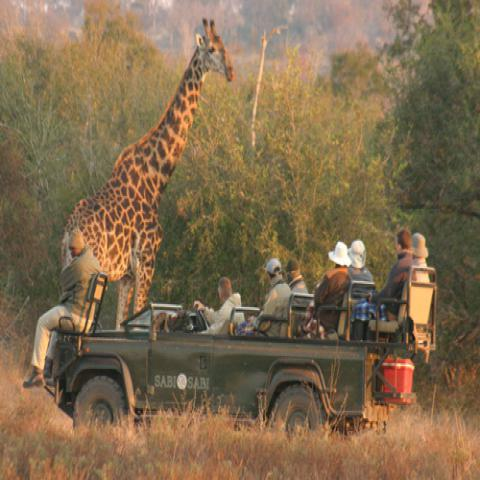truck: (45, 267, 439, 442)
